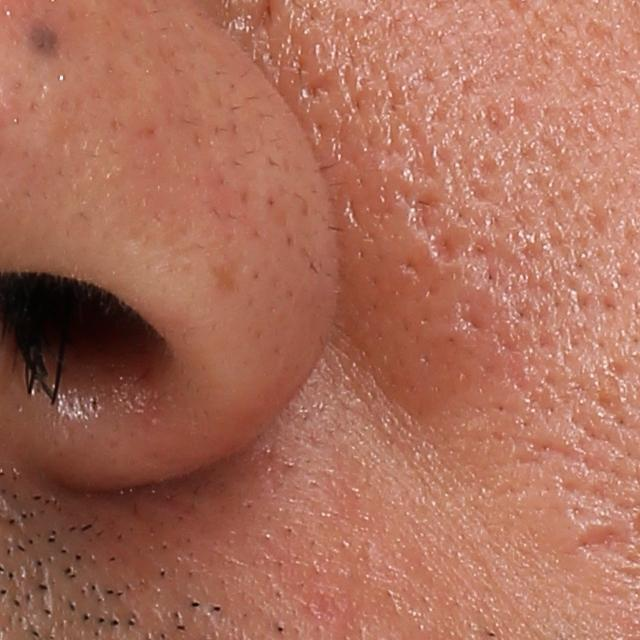atrophic_scar: (405, 190, 468, 262), (292, 65, 354, 112), (580, 12, 625, 43), (485, 100, 519, 136)
